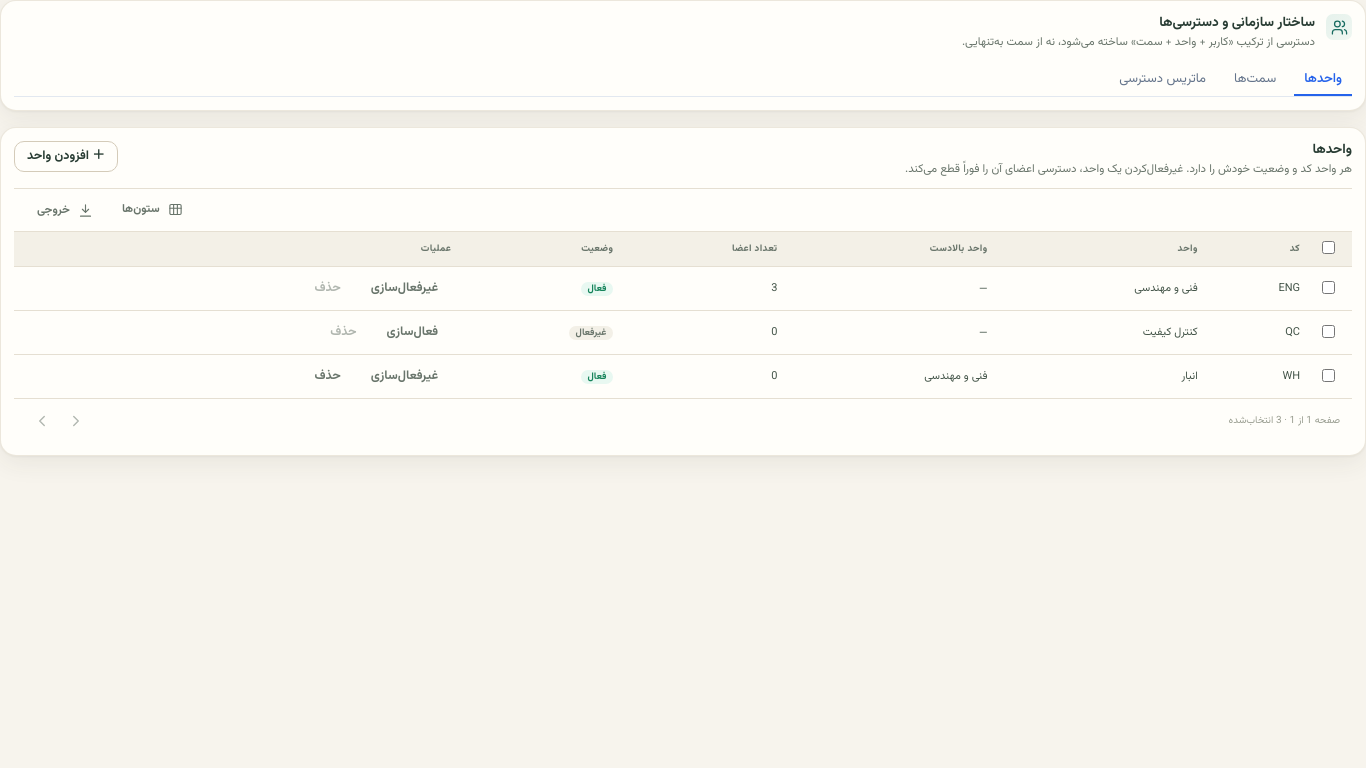
organisation structure page — positions and postings › notes that level is only for ordering, not for granting
Expected: the text "ENG" is shown, [1207,267,1309,311]
Step 1. Click the tab "سمت‌ها" → [1255, 80], box [1224,64,1286,96]
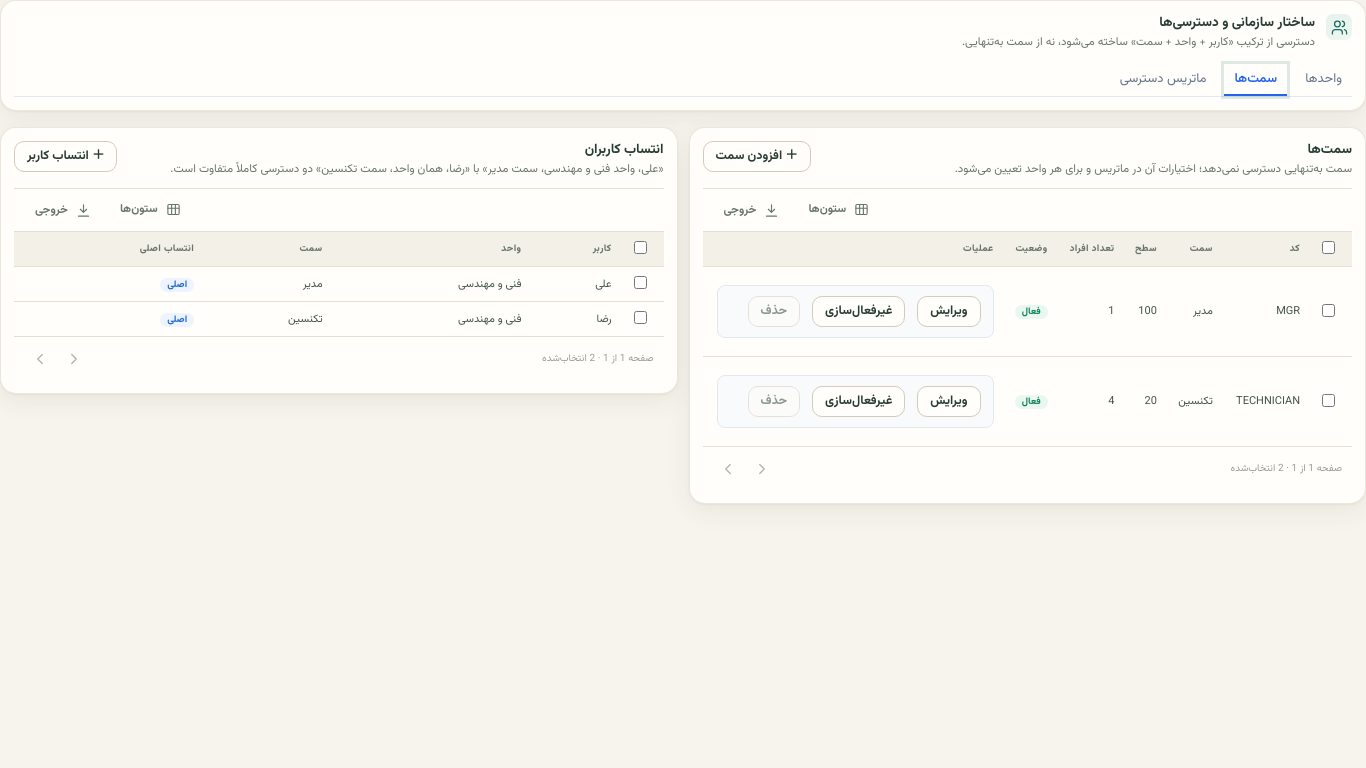
Step 2. Click the button "＋ افزودن سمت" → [757, 157], box [702,141,811,172]
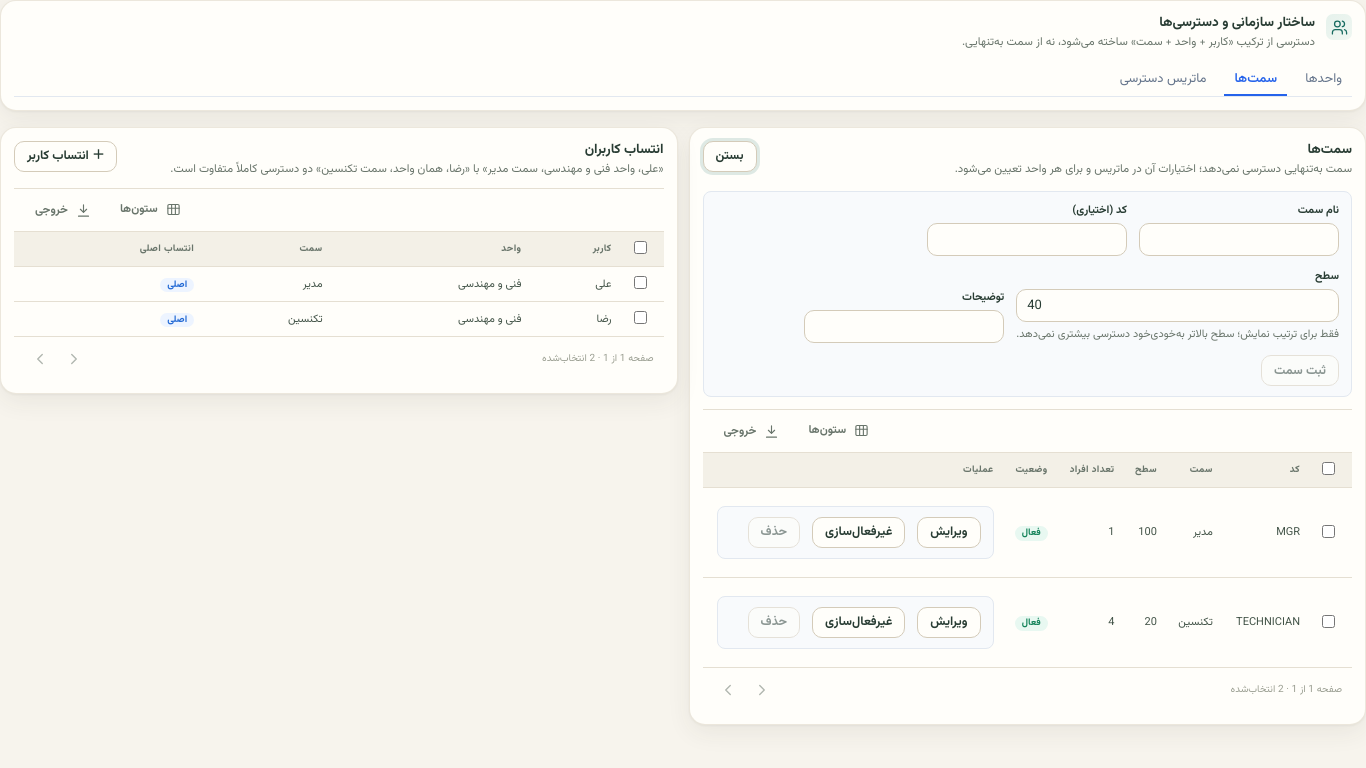
Now the text "سطح بالاتر به‌خودی‌خود دسترسی بیشتری نمی‌دهد" is shown, box [1016,326,1339,343]
